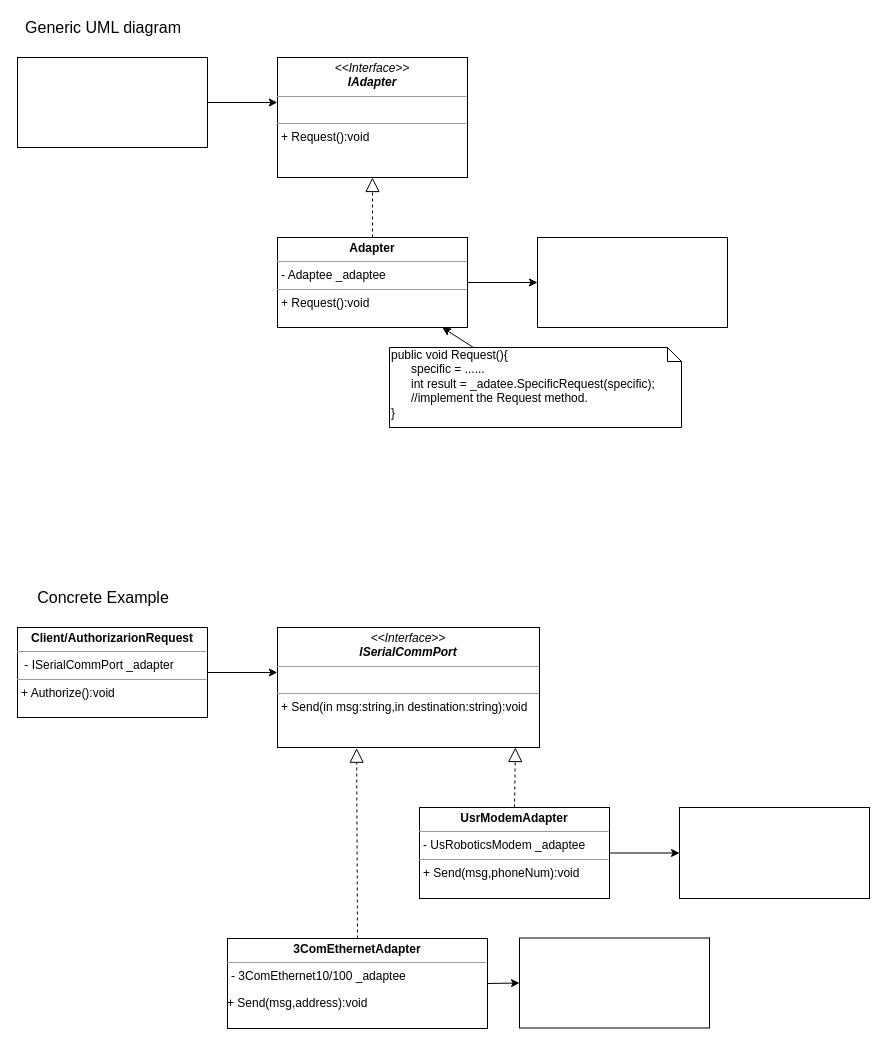
This 887x1046 diagram has some shape labels left out. Here are the shapes that lost their labels. From the top down, the centre of each, then its label:
(112,102): Client - IAdapter _adapter + MakeRequest():void
(632,282): Adaptee + SpecificRequest(in specific):int
(774,852): UsRoboticsModem + PhoneNum : int + Send(octectString):void
(614,982): 3ComEthernet10/100 + SetParams(...) + Send(buffer,address):void
